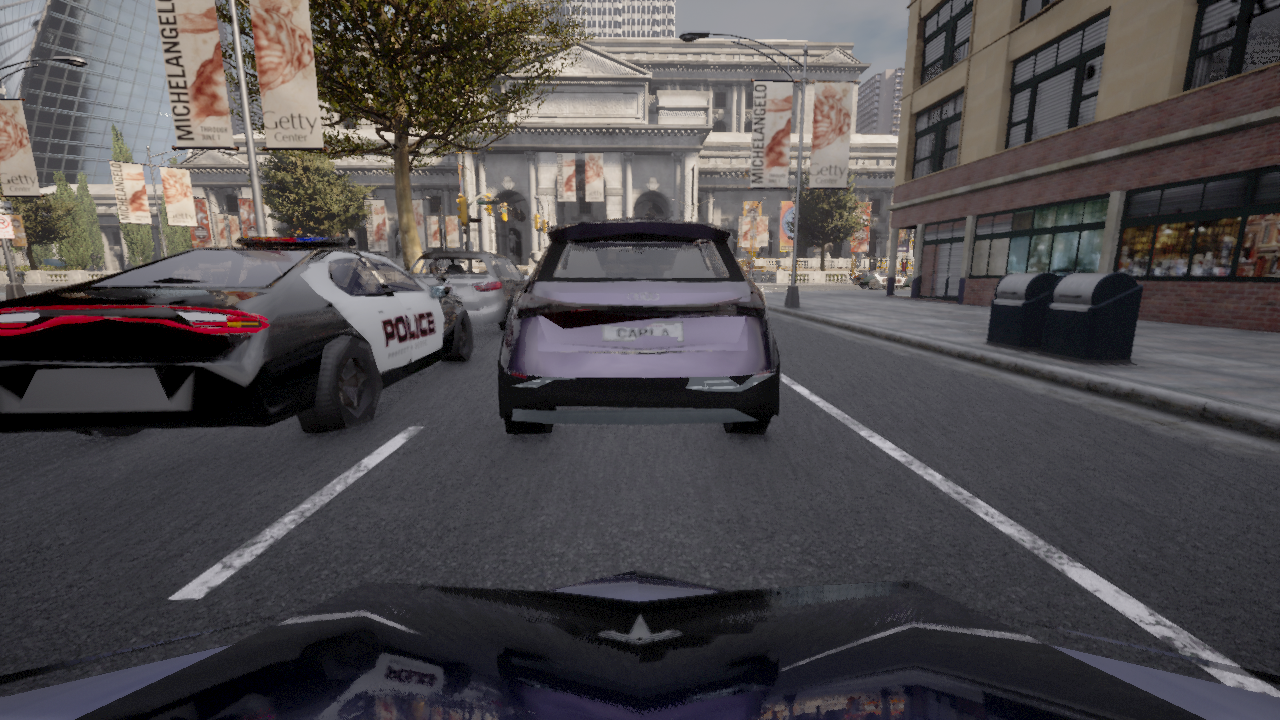cyclist: (0, 569, 1279, 719), (0, 237, 473, 436), (498, 217, 779, 434), (409, 251, 530, 330), (852, 269, 912, 289)
pedestrian: (846, 266, 854, 283)
